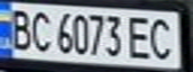0: (69, 10, 90, 55)
3: (103, 11, 127, 58)
6: (51, 9, 75, 55)
7: (87, 11, 106, 56)
B: (3, 6, 36, 52)
C: (145, 15, 181, 62), (27, 7, 54, 53)
E: (124, 12, 157, 61)
